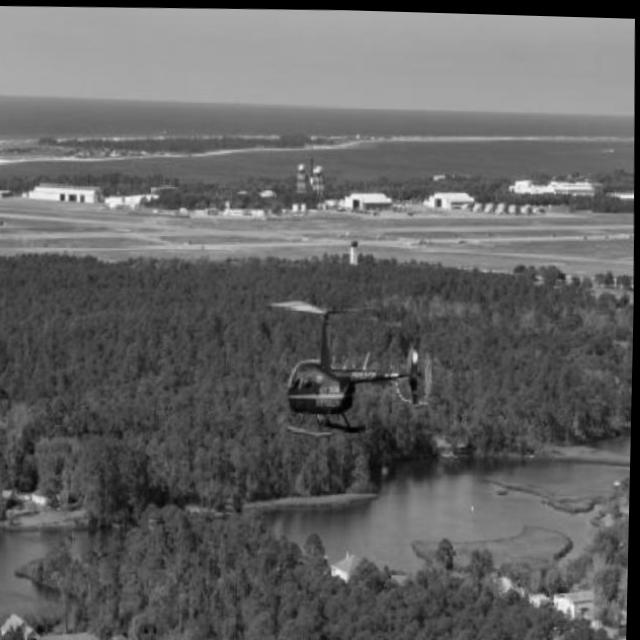helikopter: (263, 285, 448, 458)
